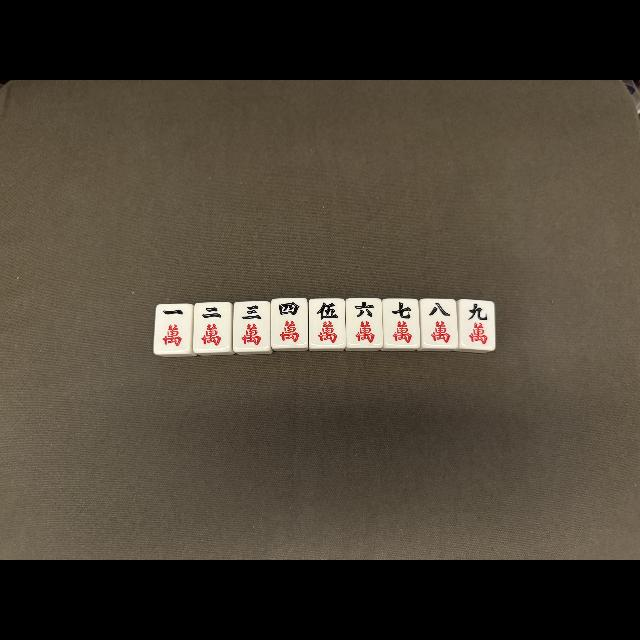c1: (156, 304, 190, 354)
c2: (194, 303, 230, 351)
c3: (234, 302, 270, 350)
c4: (272, 298, 308, 348)
c5: (310, 299, 344, 347)
c6: (346, 299, 382, 347)
c7: (384, 299, 420, 346)
c8: (422, 300, 456, 348)
c9: (460, 301, 494, 349)
